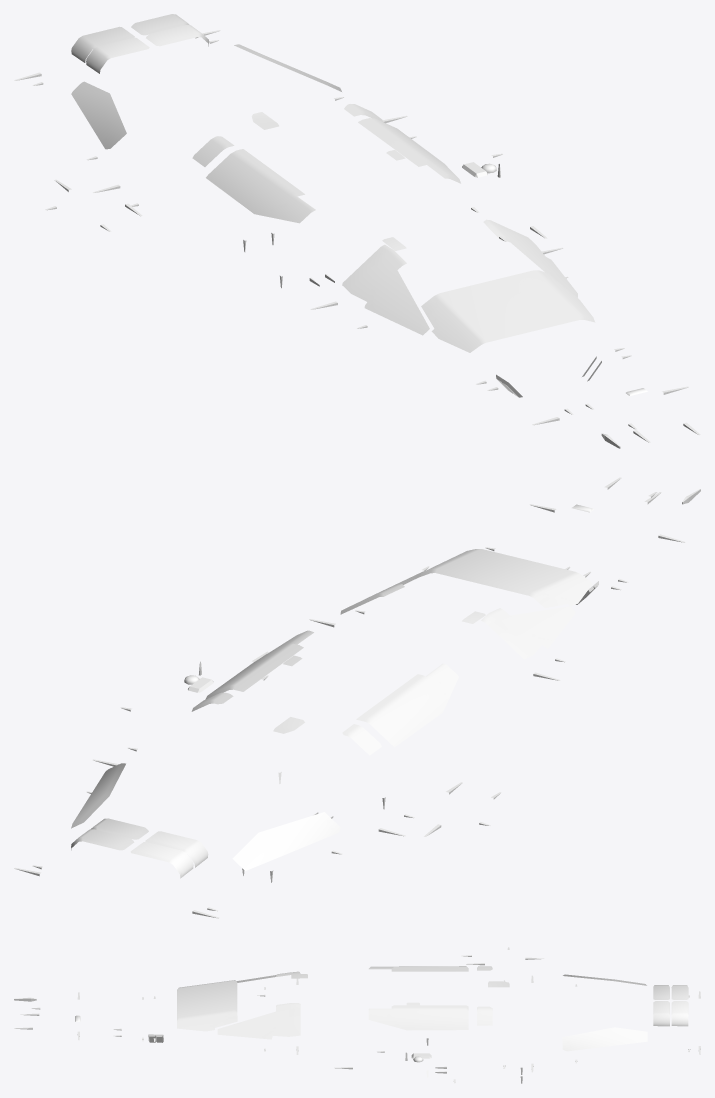
The model's file is hgn_flagship_explorer_03.glb.
The picture shows the model from 3 angles, top to bottom: view 1: azimuth 30°, elevation 25°; view 2: azimuth 150°, elevation 25°; view 3: azimuth 270°, elevation 25°; orthographic projection. The views are drawn at different scales.
Parts seen in each view (by area): view 1: hgn_fs_explorer_03_LOD0; view 2: hgn_fs_explorer_03_LOD0; view 3: hgn_fs_explorer_03_LOD0.
Part boxes in pixels (box(x1,y1,x2,y2)): hgn_fs_explorer_03_LOD0: box(14, 14, 700, 448); hgn_fs_explorer_03_LOD0: box(14, 477, 700, 918); hgn_fs_explorer_03_LOD0: box(14, 947, 700, 1083).
Size of what is drawn, in the model's own units: 7.39 by 2.59 by 16.84.
Materials: 1 (1 with a texture image).
